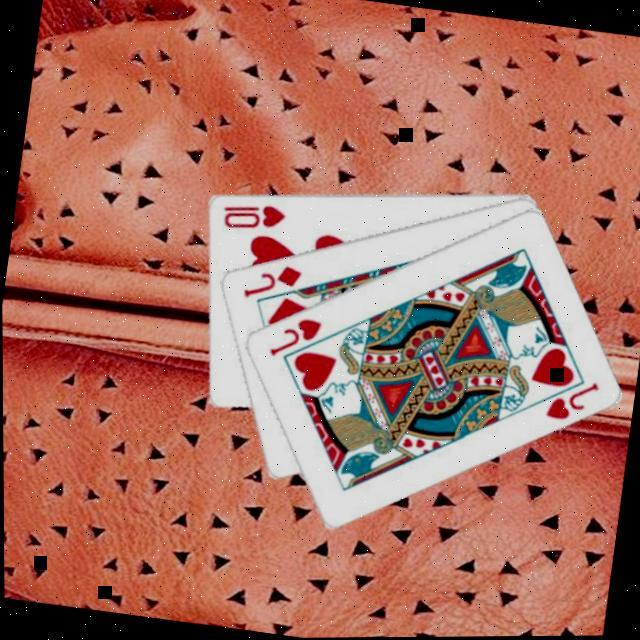10H: (215, 194, 287, 237)
JD: (236, 255, 302, 306)
JH: (261, 309, 323, 365), (538, 373, 600, 428)
